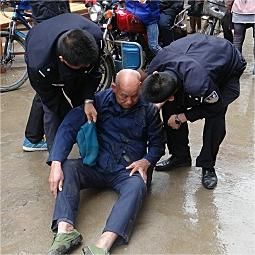bending: (147, 27, 245, 194), (7, 9, 107, 161)
down: (38, 62, 169, 255)
